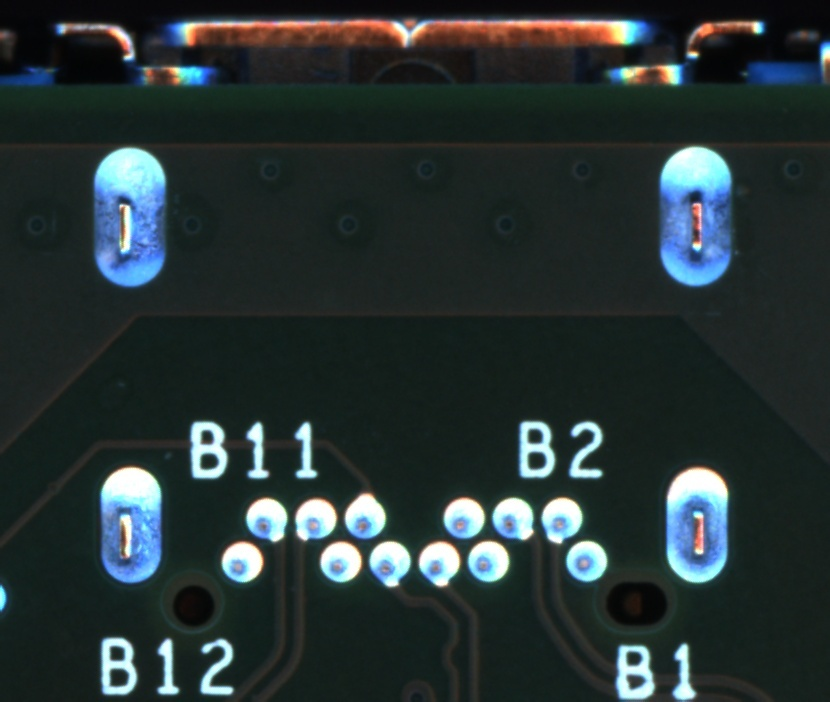SOLDER: (464, 538, 511, 586), (366, 540, 413, 588), (218, 539, 265, 587), (243, 494, 289, 543), (292, 494, 338, 542), (342, 492, 388, 540), (441, 493, 487, 541), (490, 495, 536, 543), (539, 495, 585, 543), (562, 537, 608, 585), (416, 540, 462, 588), (317, 538, 363, 586)
SOLDER2: (82, 140, 175, 301), (83, 444, 176, 604), (652, 441, 744, 602), (649, 136, 741, 296)
